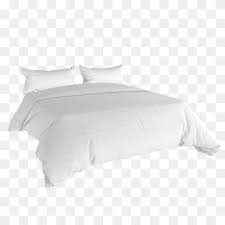bed-matress: (24, 84, 189, 157)
